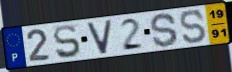2: (25, 28, 53, 64), (117, 17, 144, 52)
S: (149, 12, 180, 49), (52, 24, 83, 60), (179, 9, 208, 45)
V: (85, 18, 114, 56)
